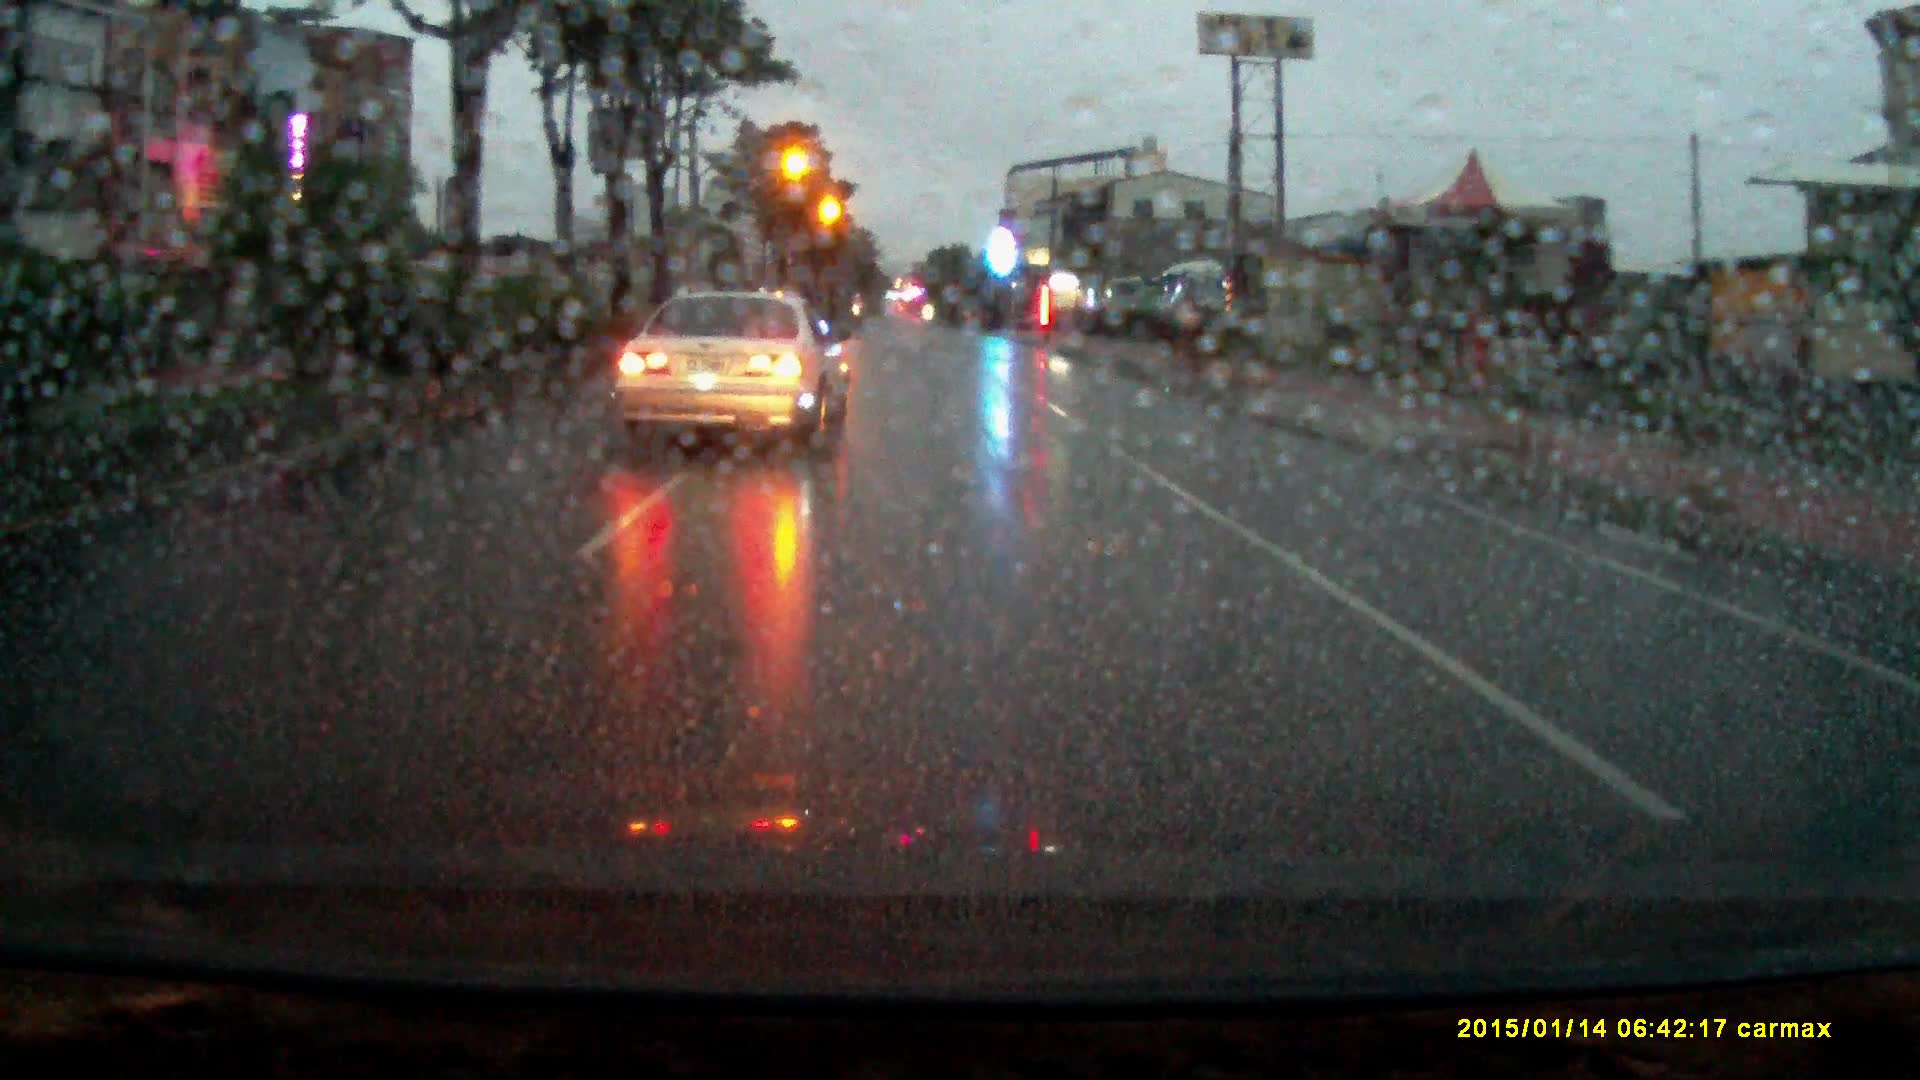vehicle: (608, 287, 857, 458), (1163, 261, 1236, 339), (1102, 276, 1151, 326)
